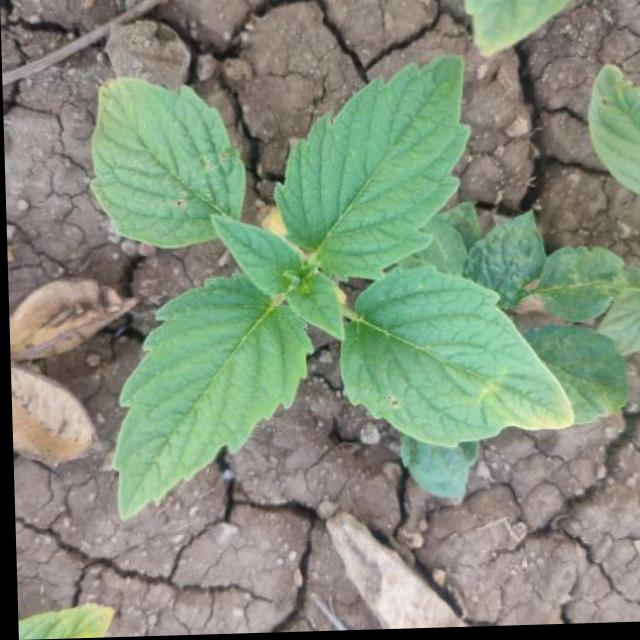crop: (83, 52, 640, 523)
